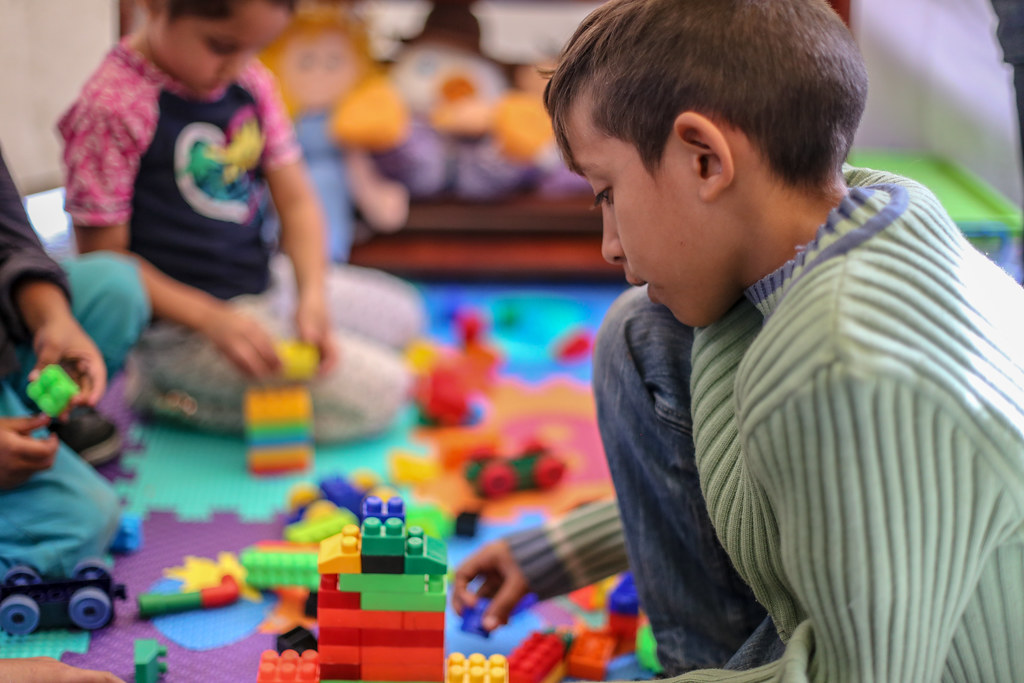human: (484, 2, 1024, 683)
